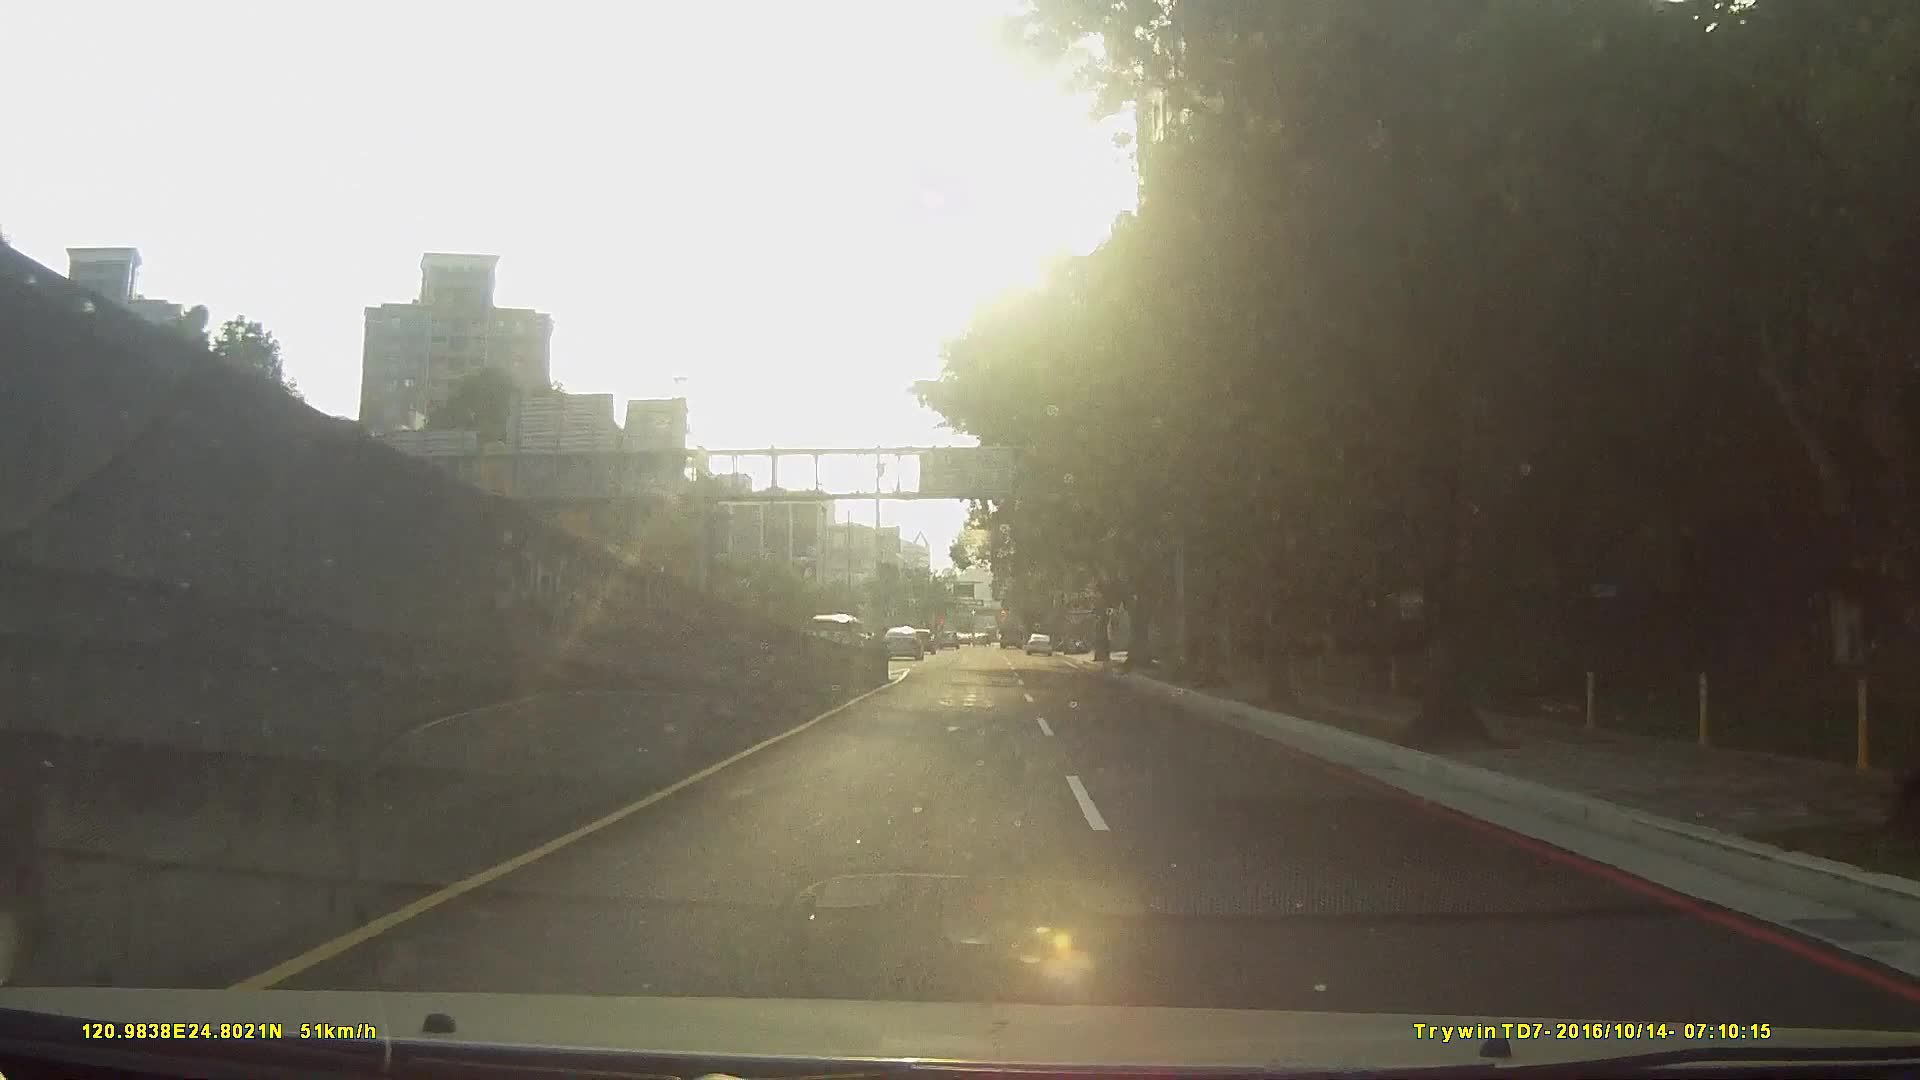vehicle: (878, 626, 922, 662), (998, 613, 1025, 649), (1023, 632, 1054, 655)
